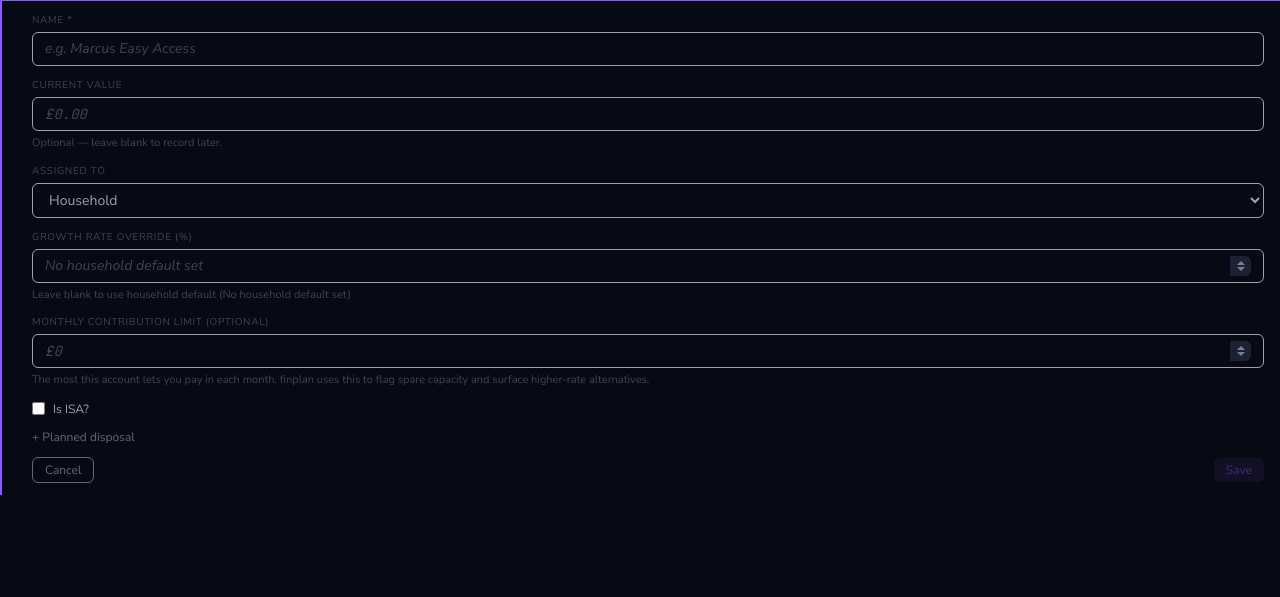
Test: AccountForm — ISA fields › blocks save when Is ISA is on but no member is assigned
Type "Cash ISA" into the field named "Name" at {"x": 648, "y": 49}, box top-left (32, 32), bottom-right (1264, 66)
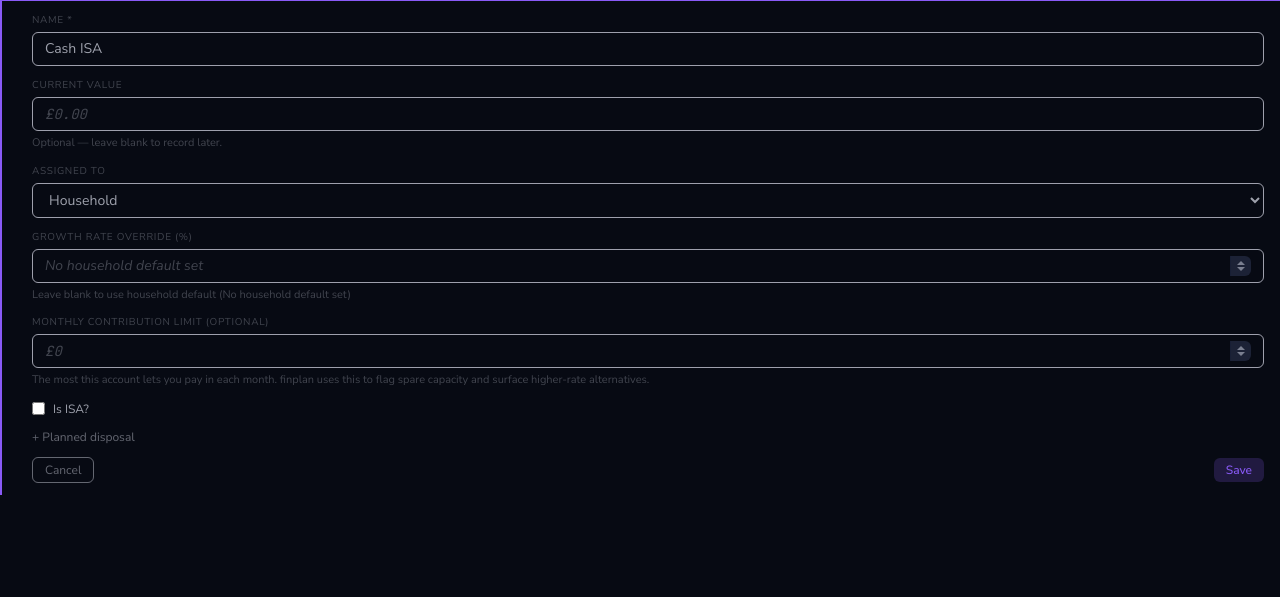
Click the checkbox labelled "Is ISA?" at {"x": 38, "y": 408}, box top-left (32, 402), bottom-right (45, 415)
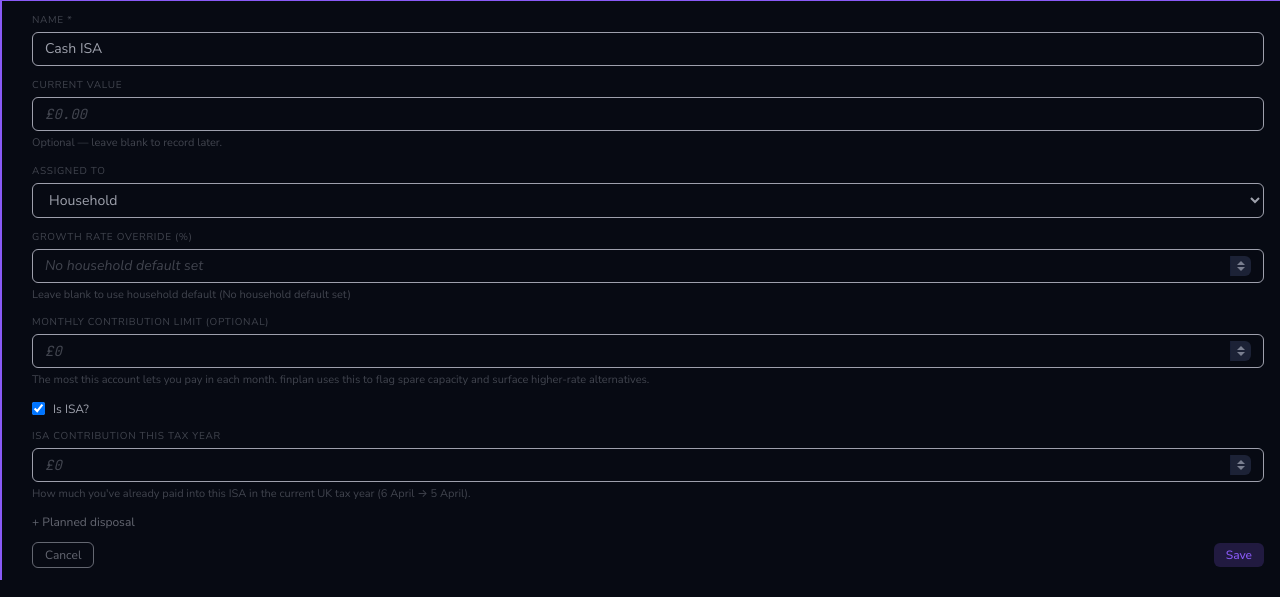
Click the button "Save" at {"x": 1239, "y": 555}, box top-left (1214, 543), bottom-right (1264, 567)
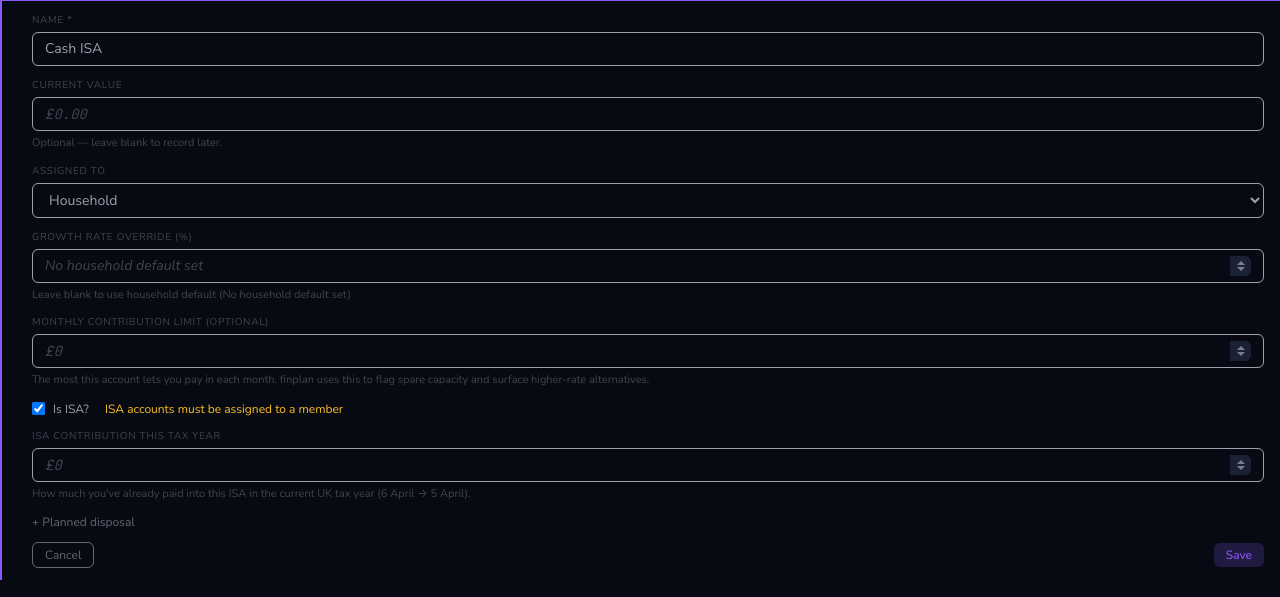
Expected: the text "ISA accounts must be assigned to a member" is shown, top-left (105, 400), bottom-right (343, 416)
